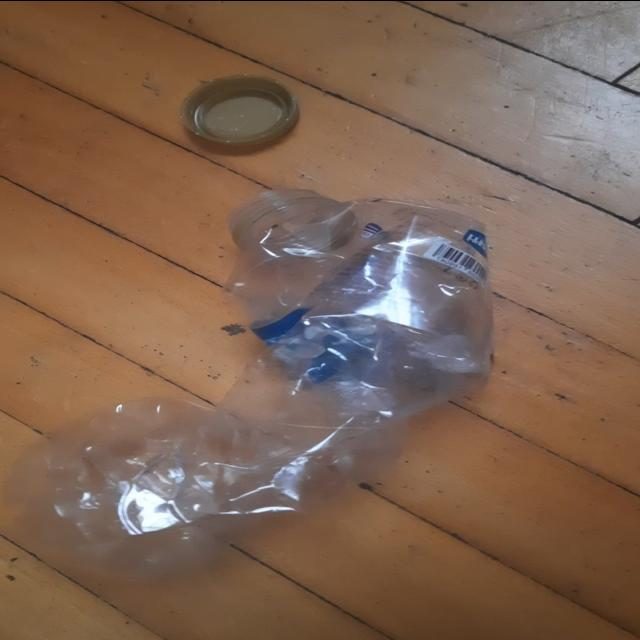Plastic: (10, 193, 494, 573)
